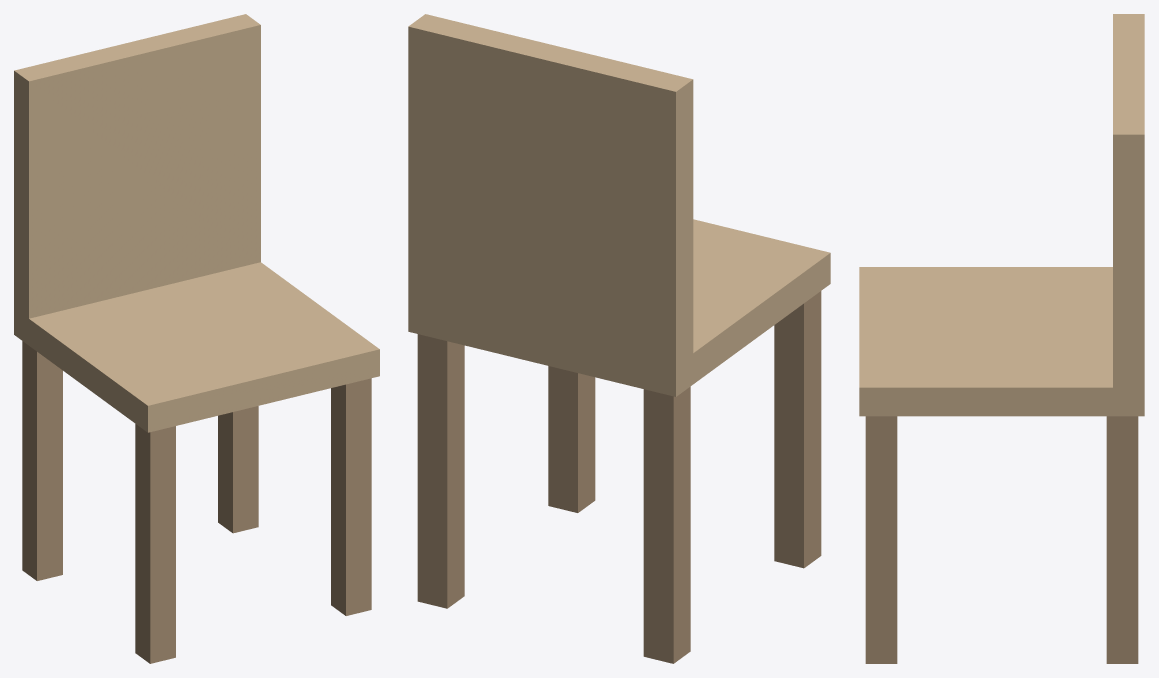
File: dining_chair.glb
The picture shows the model from 3 angles, left to right: view 1: azimuth 30°, elevation 25°; view 2: azimuth 150°, elevation 25°; view 3: azimuth 270°, elevation 25°; orthographic projection. The views are drawn at different scales.
Bounding box in the file's own units: 450 × 925 × 450.
